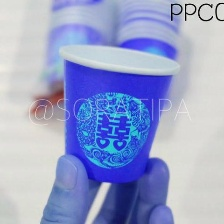paper_cup: (53, 41, 184, 189)
